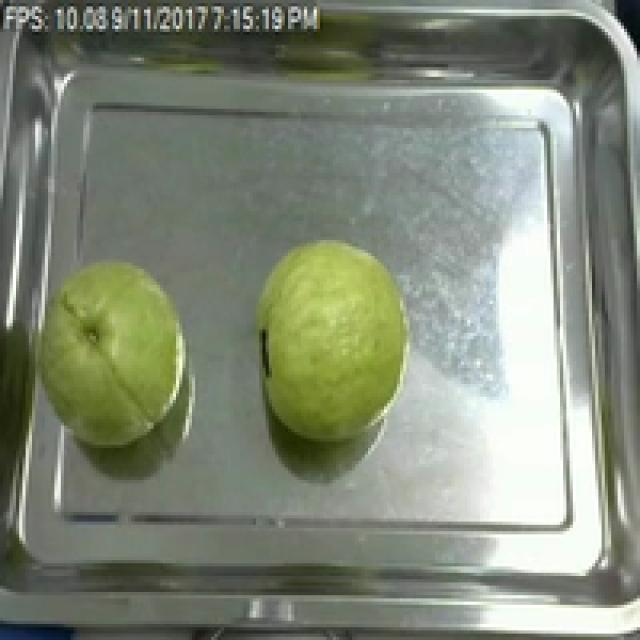Fruit: (246, 230, 419, 452), (20, 243, 198, 458)
